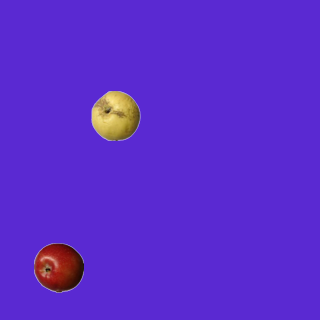Apple Braeburn: (33, 242, 83, 292)
Apple Golden 1: (90, 90, 140, 140)
